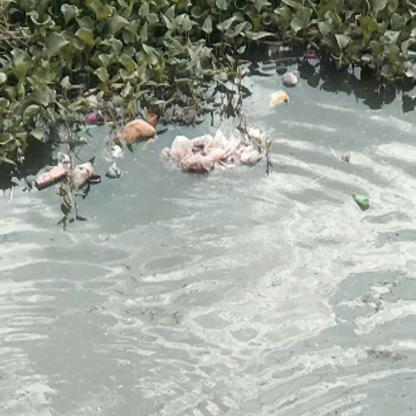Glass: (348, 187, 370, 210)
Metal: (36, 152, 66, 188)
Plastic: (70, 155, 102, 188)
Trash: (172, 127, 263, 170), (118, 110, 166, 152), (266, 84, 294, 108)
